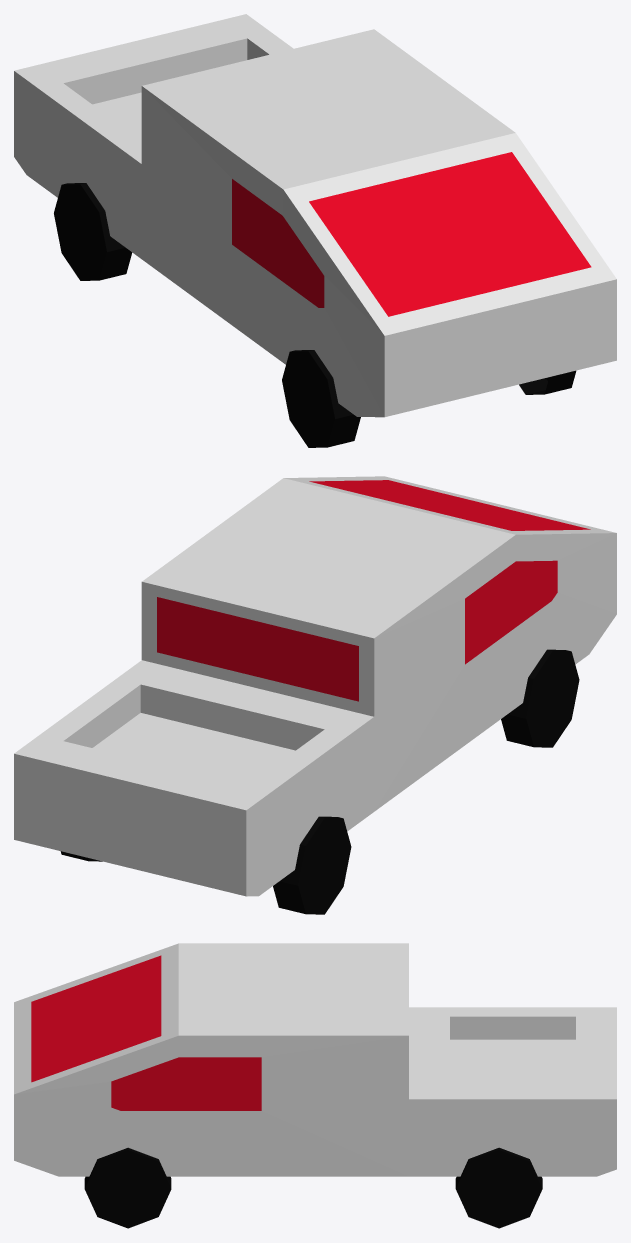
The model's file is slipperCar.fbx.
The picture shows the model from 3 angles, top to bottom: view 1: azimuth 30°, elevation 25°; view 2: azimuth 150°, elevation 25°; view 3: azimuth 270°, elevation 25°; orthographic projection. The views are drawn at different scales.
Visible parts, largest first — view 1: Cube, Cube.001; view 2: Cube, Cube.001; view 3: Cube, Cube.001.
Boxes of the visible parts, x1,y1,x2,y2 form: Cube: (14, 14, 616, 417); Cube.001: (54, 183, 576, 447); Cube: (14, 476, 616, 896); Cube.001: (60, 649, 579, 914); Cube: (14, 943, 616, 1176); Cube.001: (84, 1147, 542, 1228).
Size of the model in its own units: 295 by 270 by 774.
